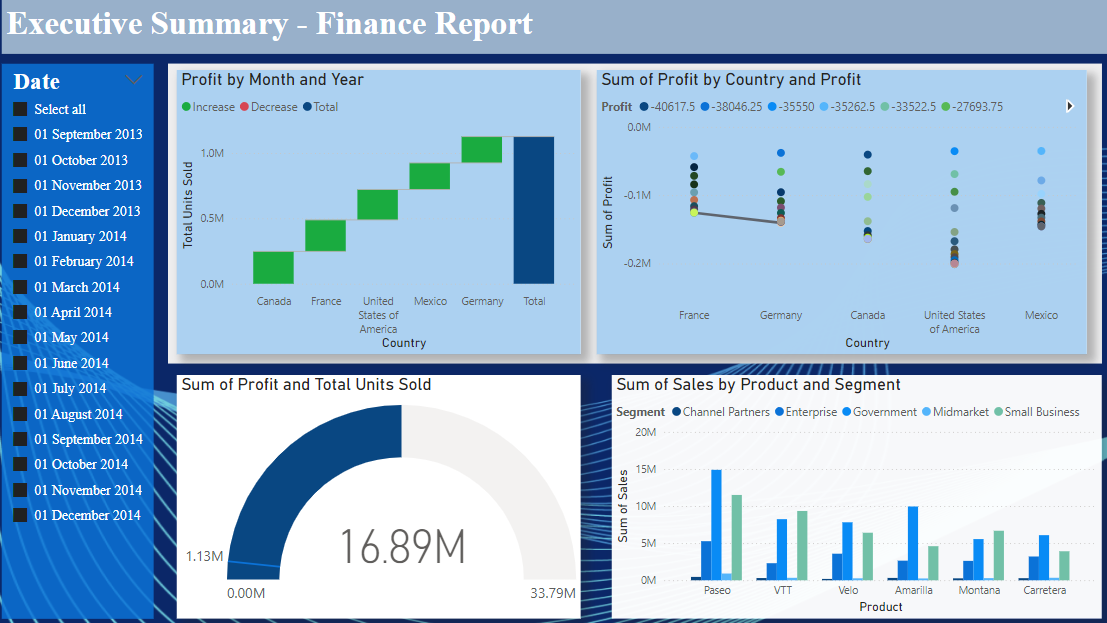

The dashboard page shown, as its layout file describes it:
{"tool":"powerbi","page":{"name":"Page 1","canvas":[1280,720],"ordinal":0},"visuals":[{"type":"shape","box":[199.3,72.1,1067.5,342.4],"z":0},{"type":"textbox","title":"Executive Summary - Finance Report","box":[10,0,1270,61.7],"z":1000},{"type":"gauge","fields":{"Y":["Sum(financials.Profit)"],"TargetValue":["financials.Total Units Sold"]},"box":[210,428.3,461.7,278.3],"z":2000},{"type":"waterfallChart","title":"Profit by Month and Year","fields":{"Category":["financials.Country"],"Y":["financials.Total Units Sold"]},"box":[210,80,461.7,325],"z":3000},{"type":"stackedAreaChart","fields":{"Category":["financials.Country"],"Y":["Sum(financials.Profit)"],"Series":["financials.Profit"]},"box":[690,80,560,325],"z":4000},{"type":"clusteredColumnChart","fields":{"Category":["financials.Product"],"Y":["Sum(financials. Sales)"],"Series":["financials.Segment"]},"box":[706.7,428.3,560,278.3],"z":5000},{"type":"slicer","fields":{"Values":["financials.Date"]},"box":[9.8,72.1,173.6,634.7],"z":6000}]}

Visuals, with their boxes in screenshot pixels (x1, y1, x2, y2), scaled from the page's 1280x720 canvas onto the 1107x623 screenshot:
shape: [left=172, top=62, right=1096, bottom=359]
"Executive Summary - Finance Report" textbox: [left=9, top=0, right=1106, bottom=53]
gauge - Sum(financials.Profit) x financials.Total Units Sold: [left=182, top=371, right=581, bottom=611]
"Profit by Month and Year" waterfallChart: [left=182, top=69, right=581, bottom=350]
stackedAreaChart - financials.Country x Sum(financials.Profit): [left=597, top=69, right=1081, bottom=350]
clusteredColumnChart - financials.Product x Sum(financials. Sales): [left=611, top=371, right=1095, bottom=611]
slicer - financials.Date: [left=8, top=62, right=159, bottom=612]
